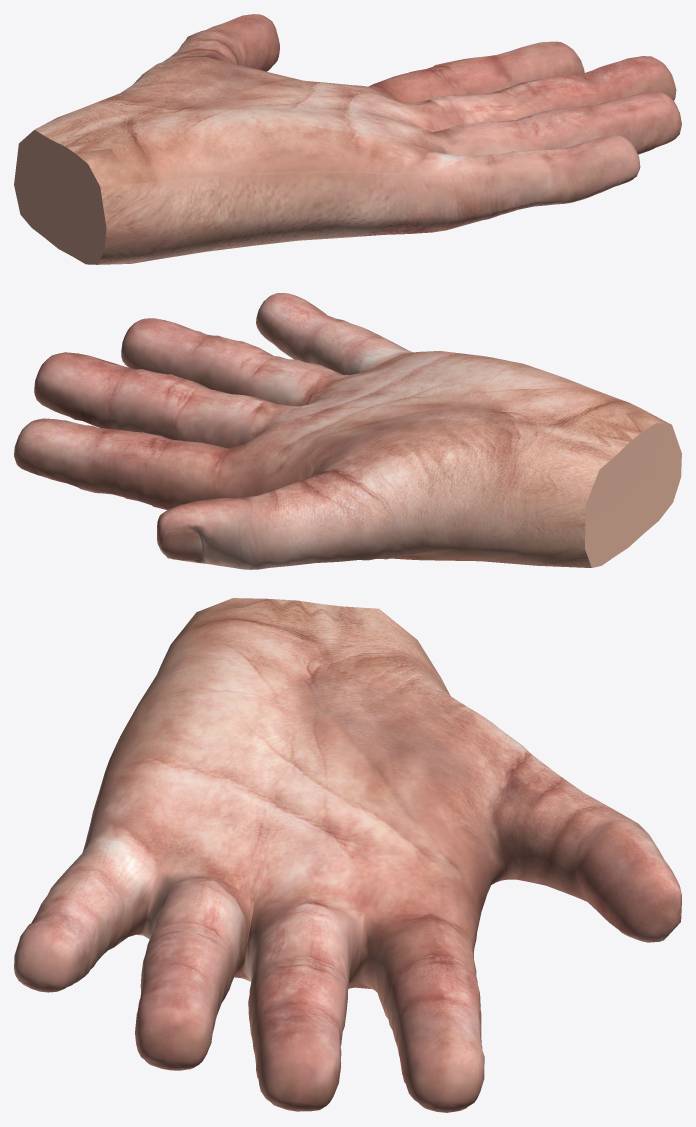
The model's file is hud_object_hand_left.dae.
The picture shows the model from 3 angles, top to bottom: view 1: azimuth 30°, elevation 25°; view 2: azimuth 150°, elevation 25°; view 3: azimuth 270°, elevation 25°; orthographic projection. The views are drawn at different scales.
Visible parts, largest first — view 1: CubeFBXASC046000_CubeFBXASC046017_Detached; view 2: CubeFBXASC046000_CubeFBXASC046017_Detached; view 3: CubeFBXASC046000_CubeFBXASC046017_Detached.
Boxes of the visible parts, x1=… form: CubeFBXASC046000_CubeFBXASC046017_Detached: x1=14, y1=14, x2=681, y2=264; CubeFBXASC046000_CubeFBXASC046017_Detached: x1=14, y1=293, x2=681, y2=569; CubeFBXASC046000_CubeFBXASC046017_Detached: x1=14, y1=598, x2=681, y2=1112.
Size of the model in its own units: 38.78 by 9.12 by 28.1.
